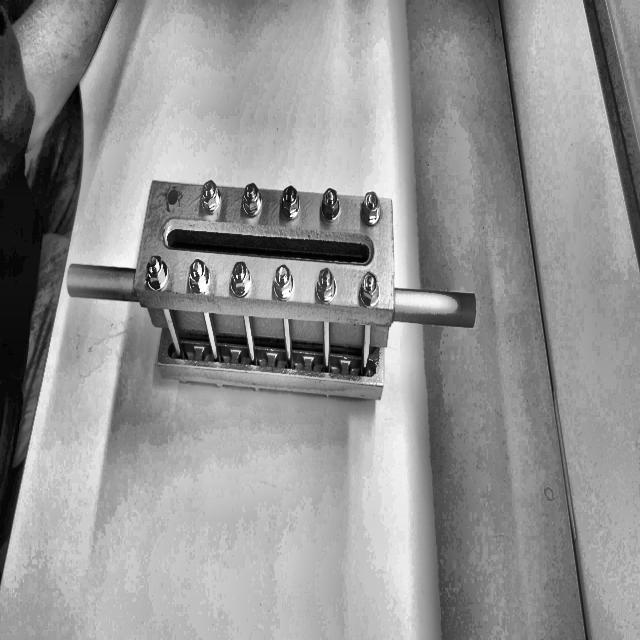ShuiWeiQi_11: (84, 118, 473, 422)
